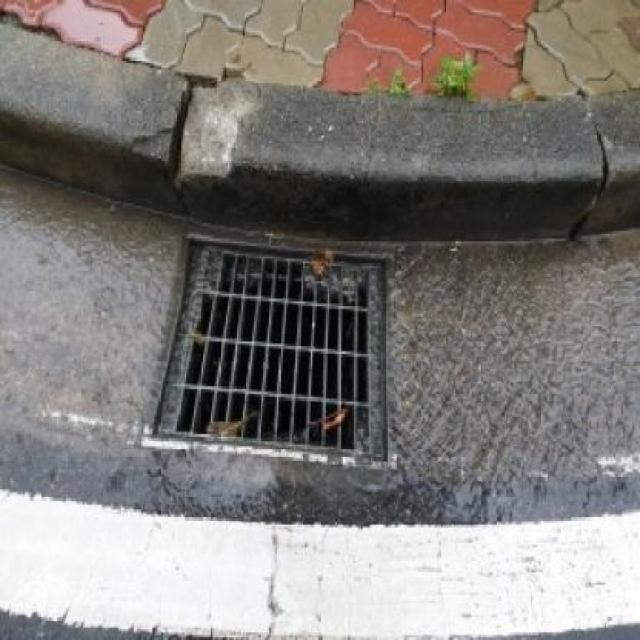Drain Hole: (160, 188, 418, 477)
